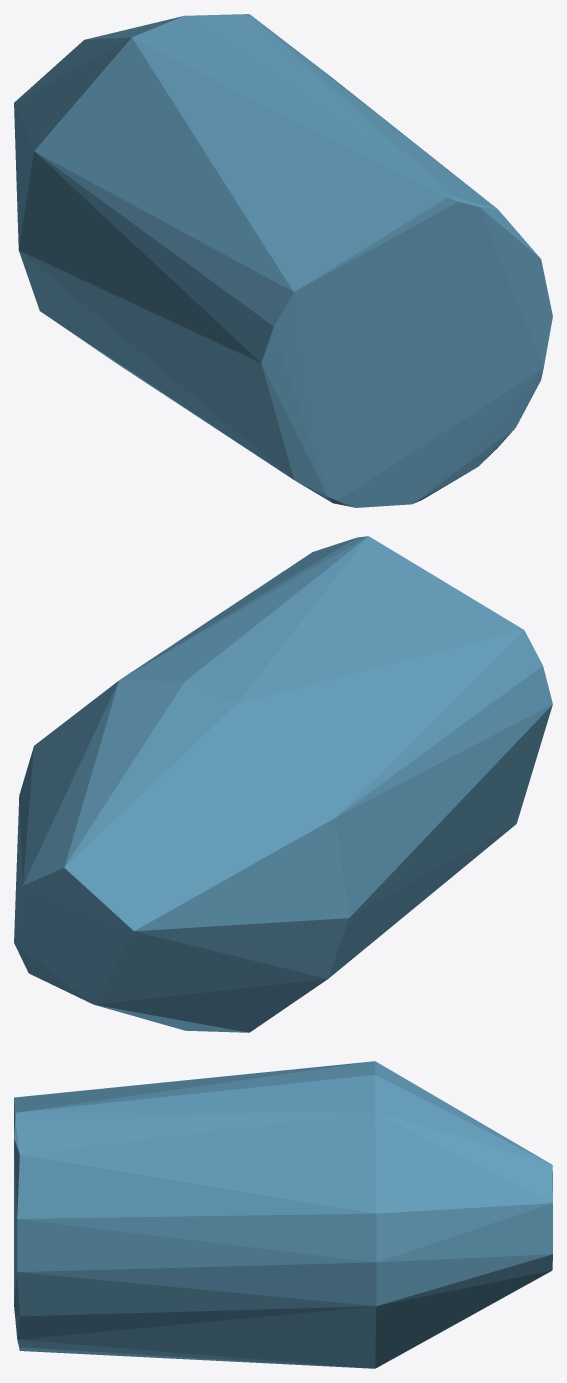
The model's file is decor_candle_n01.glb.
3 renders of one model, top to bottom at view 1: azimuth 30°, elevation 25°; view 2: azimuth 150°, elevation 25°; view 3: azimuth 270°, elevation 25°, orthographic. The views are drawn at different scales.
Visible parts, largest first — view 1: geometry_0; view 2: geometry_0; view 3: geometry_0.
Boxes of the visible parts, bbox=[...] form: geometry_0: bbox=[14, 14, 552, 507]; geometry_0: bbox=[14, 536, 552, 1032]; geometry_0: bbox=[14, 1061, 552, 1368].
Size of the model in its own units: 0.2726 by 0.275 by 0.48.
